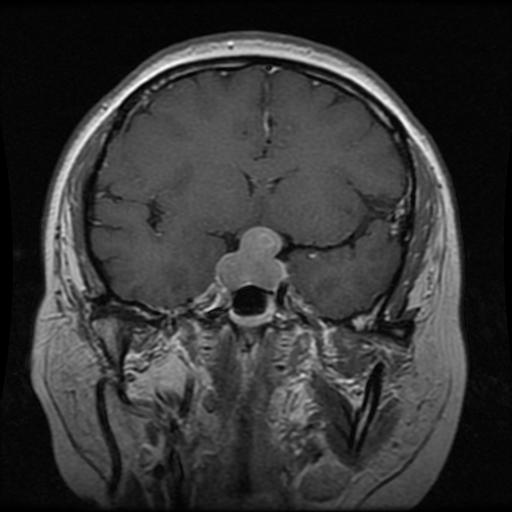Pituirity_tumour: (216, 226, 283, 291)
